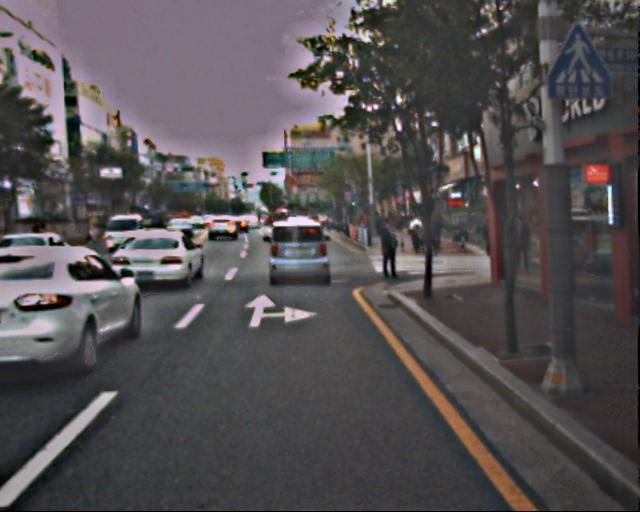person: (375, 221, 400, 282), (406, 219, 429, 251)
